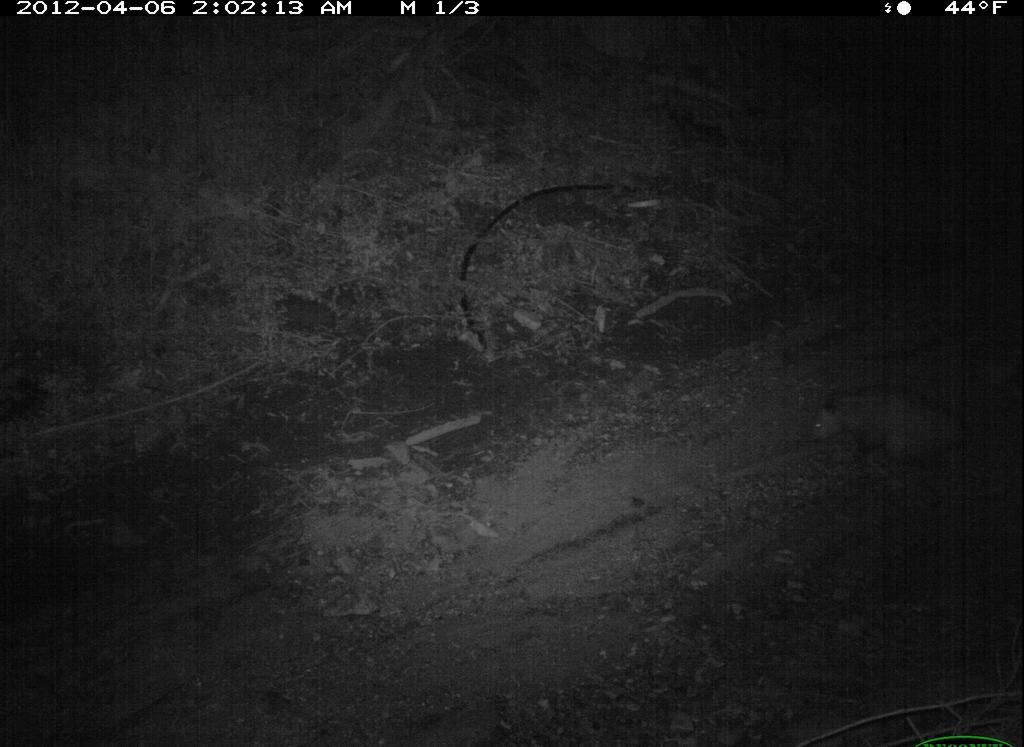opossum: (779, 373, 999, 478)
